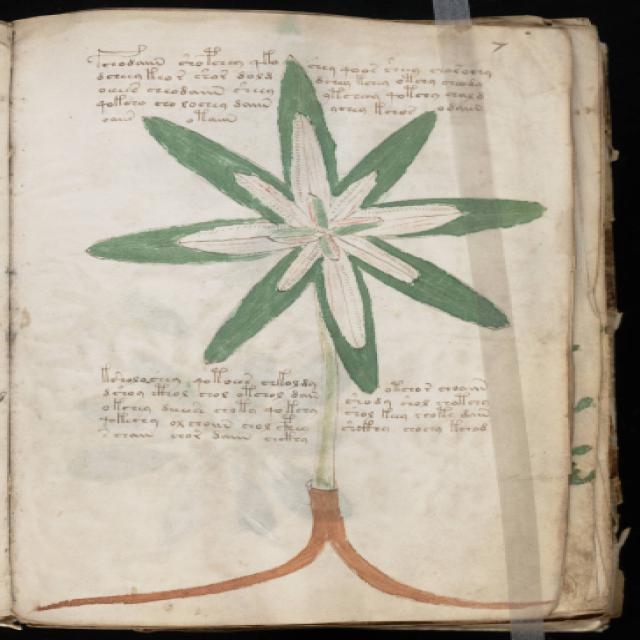plant: (27, 55, 572, 622)
